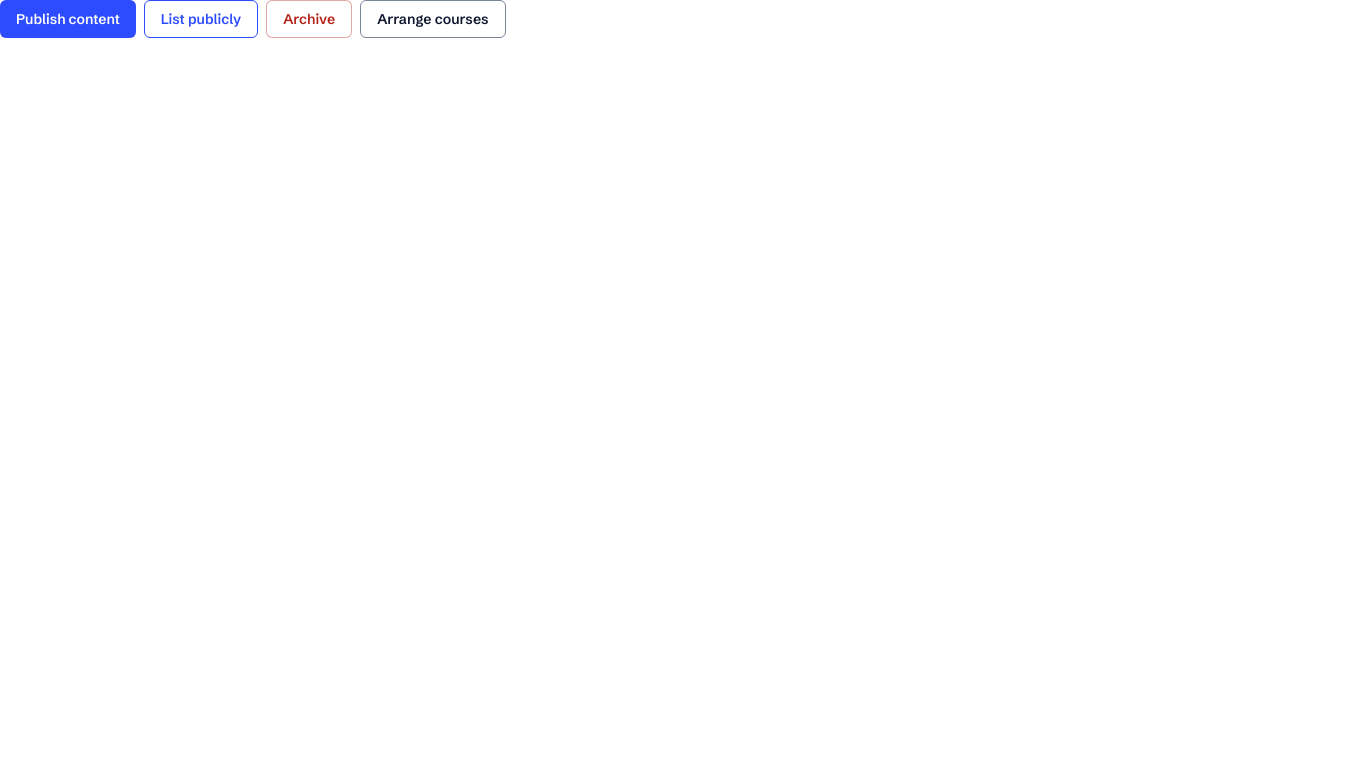
it: ProgrammeDetailClient — reasoned action transport failure › keeps the archive modal and typed reason on rejection, clears busy, and a retry succeeds
Click the button "Archive": (309,19) [266,0,352,38]
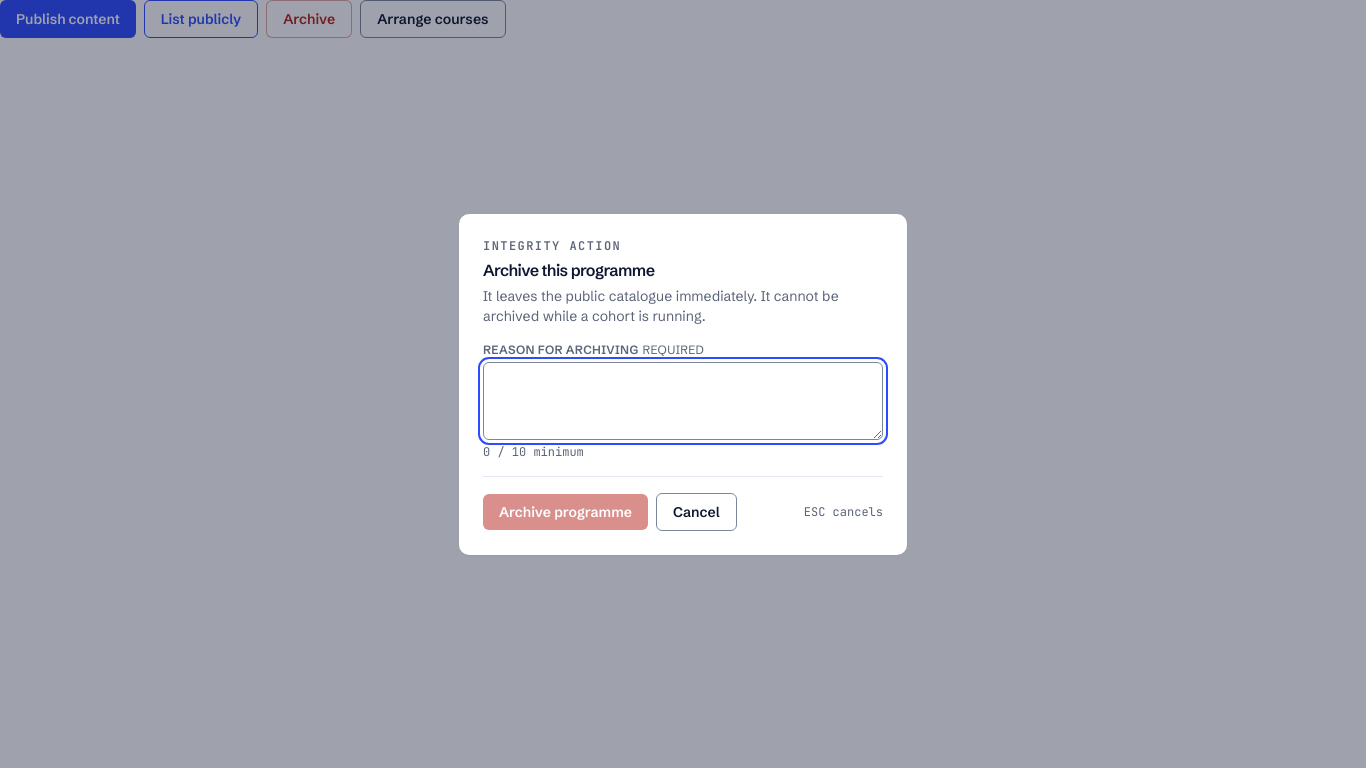
In the text box labelled "Reason": (683,400) [483,362,883,440], type "Programme retired this cycle"
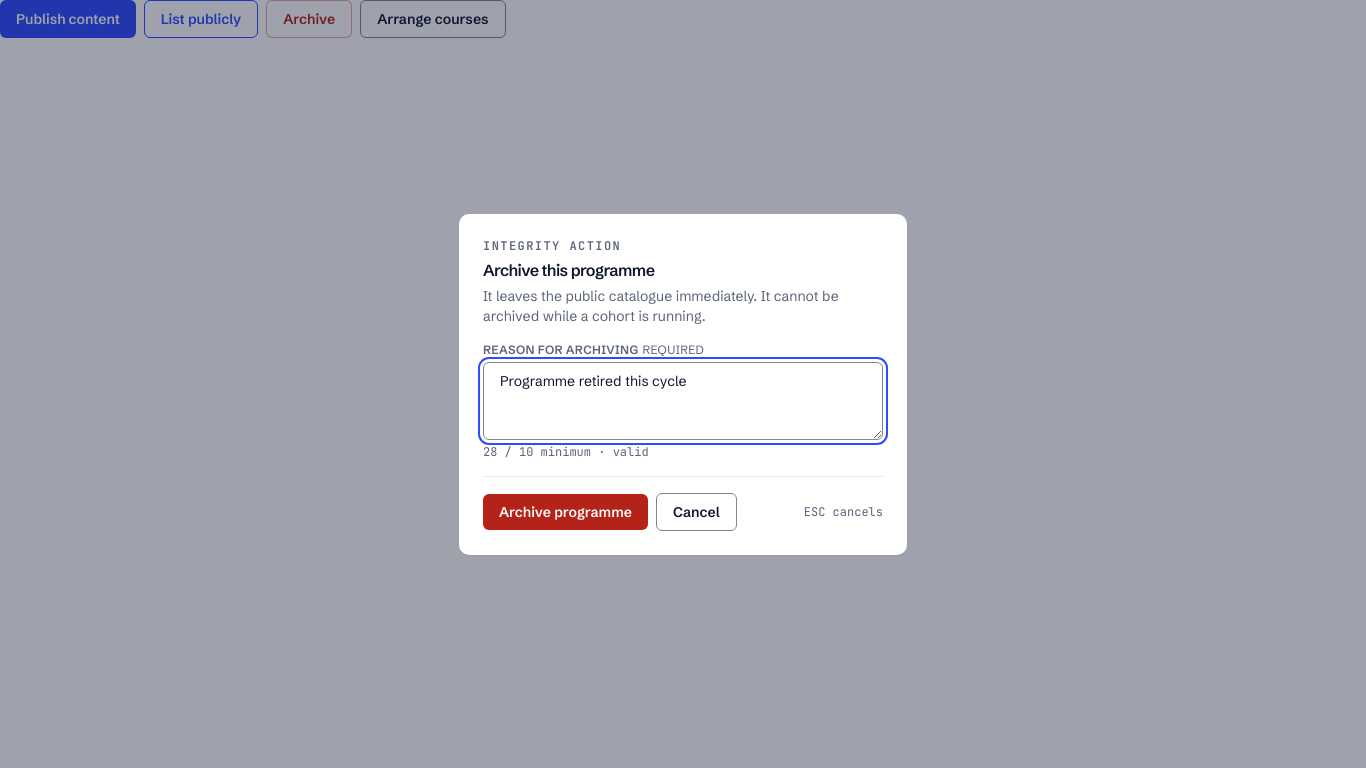
Click the button "Archive programme": (566,512) [483,494,648,530]
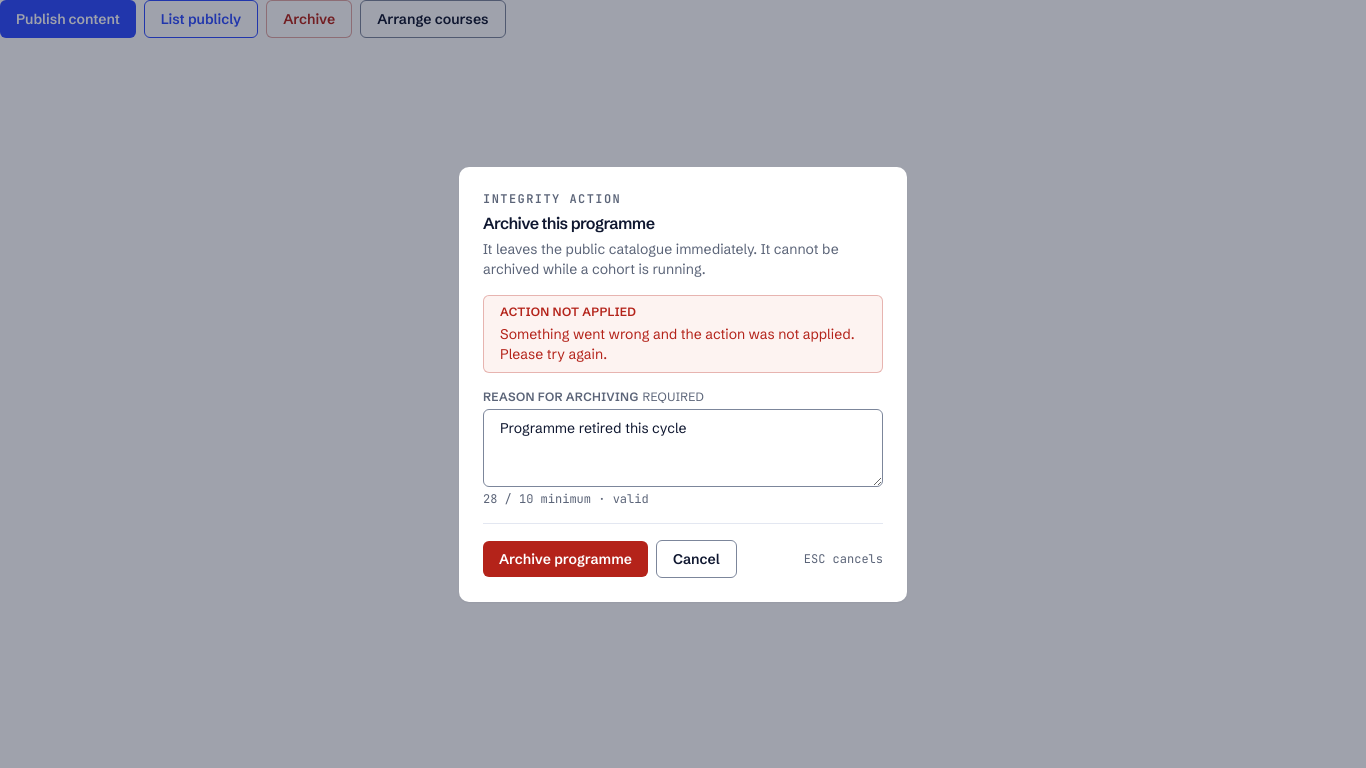
Click the button "Archive programme": (566,558) [483,540,648,576]
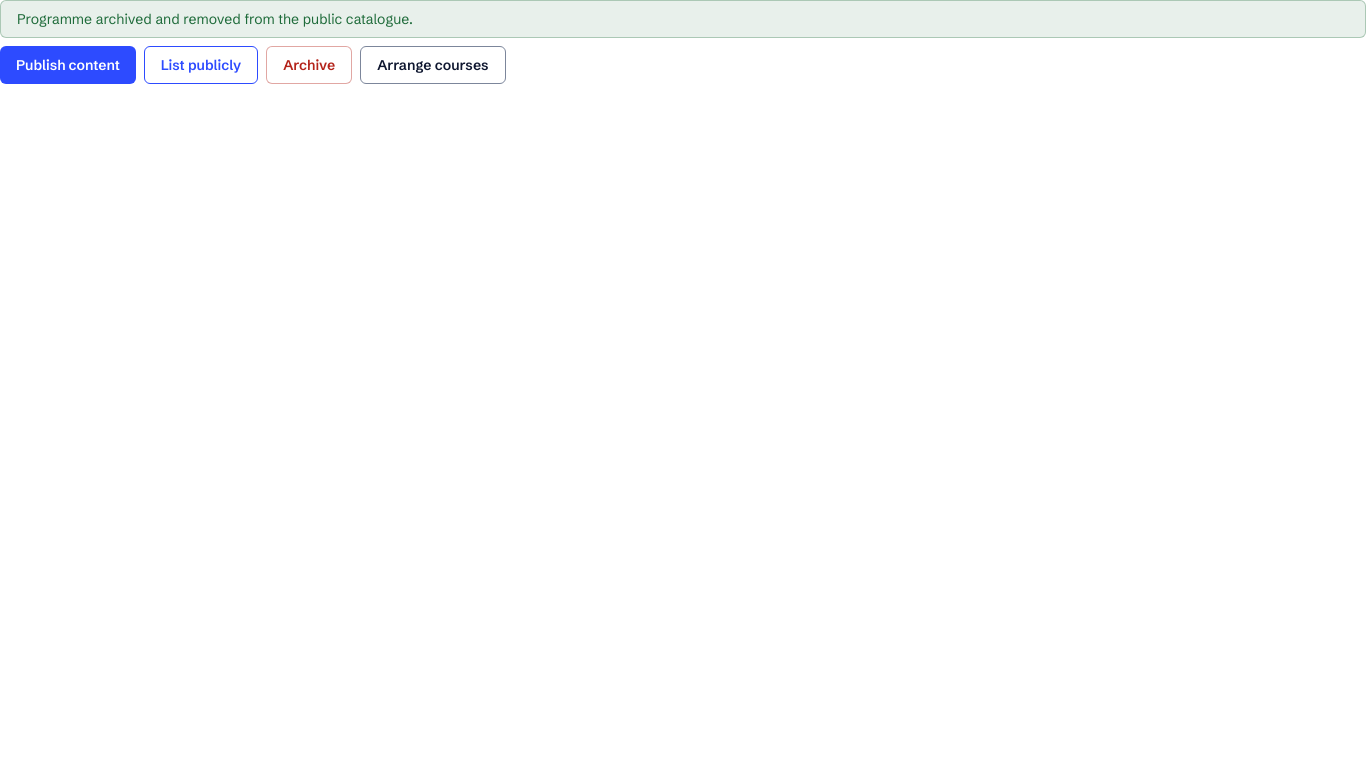
expect the text "Programme archived and removed from the public catalogue." is shown: met, box [0,0,1365,38]
